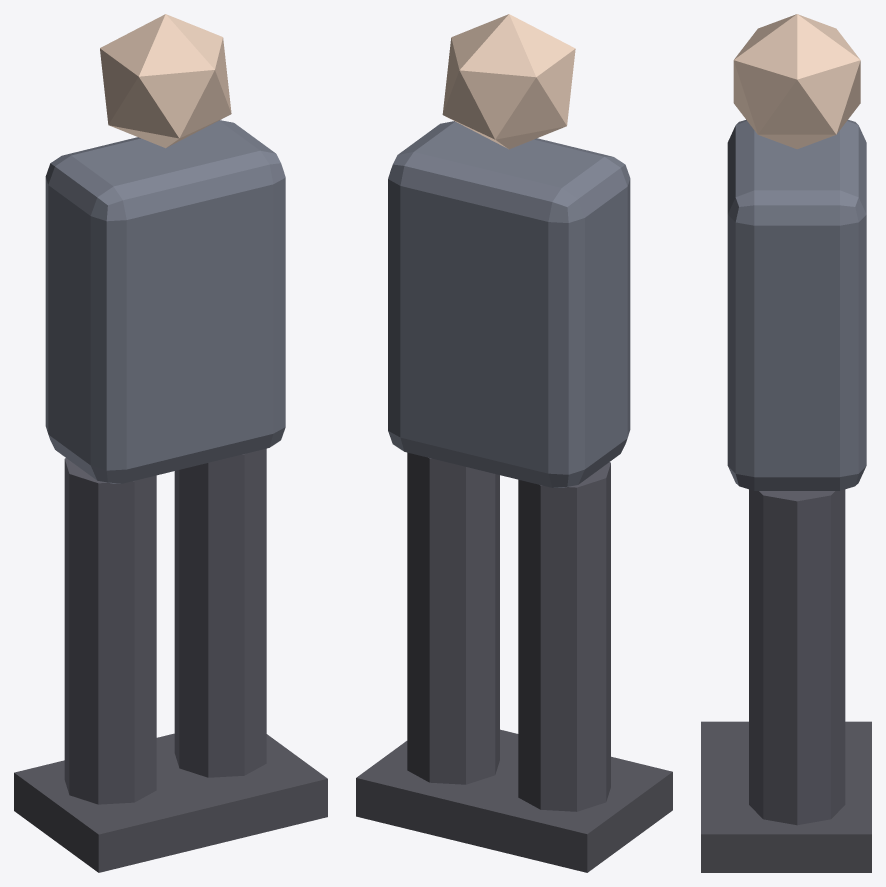
Rendered from cl-ped.glb.
3 renders of one model, left to right at view 1: azimuth 30°, elevation 25°; view 2: azimuth 150°, elevation 25°; view 3: azimuth 270°, elevation 25°, orthographic.
Visible parts, largest first — view 1: bt-cl-ped_torso, bt-cl-ped_legL, bt-cl-ped_legR, bt-cl-ped_feet, bt-cl-ped_head; view 2: bt-cl-ped_torso, bt-cl-ped_legL, bt-cl-ped_legR, bt-cl-ped_feet, bt-cl-ped_head; view 3: bt-cl-ped_torso, bt-cl-ped_legR, bt-cl-ped_feet, bt-cl-ped_head.
Boxes of the visible parts, x1,y1,x2,y2 form: bt-cl-ped_torso: [45, 120, 285, 483]; bt-cl-ped_legL: [64, 458, 156, 804]; bt-cl-ped_legR: [174, 448, 266, 777]; bt-cl-ped_feet: [14, 733, 327, 872]; bt-cl-ped_head: [100, 14, 231, 148]; bt-cl-ped_torso: [388, 121, 630, 487]; bt-cl-ped_legL: [518, 462, 610, 811]; bt-cl-ped_legR: [407, 452, 499, 784]; bt-cl-ped_feet: [356, 729, 672, 872]; bt-cl-ped_head: [442, 14, 575, 149]; bt-cl-ped_torso: [727, 120, 866, 490]; bt-cl-ped_legR: [749, 489, 845, 825]; bt-cl-ped_feet: [701, 721, 871, 872]; bt-cl-ped_head: [733, 14, 860, 149].
Bounding box in the file's own units: 0.5 × 1.66 × 0.32.
